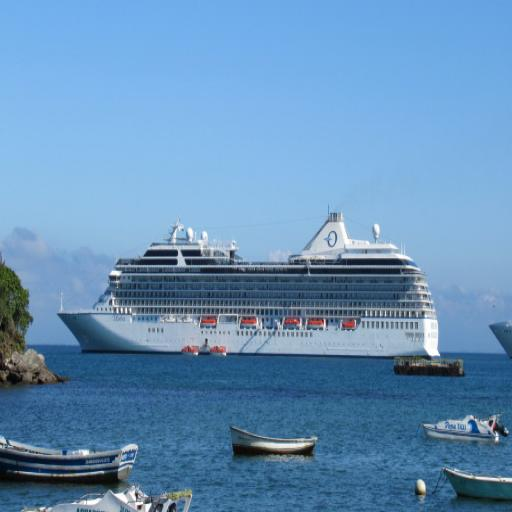cruises: (55, 205, 447, 363)
